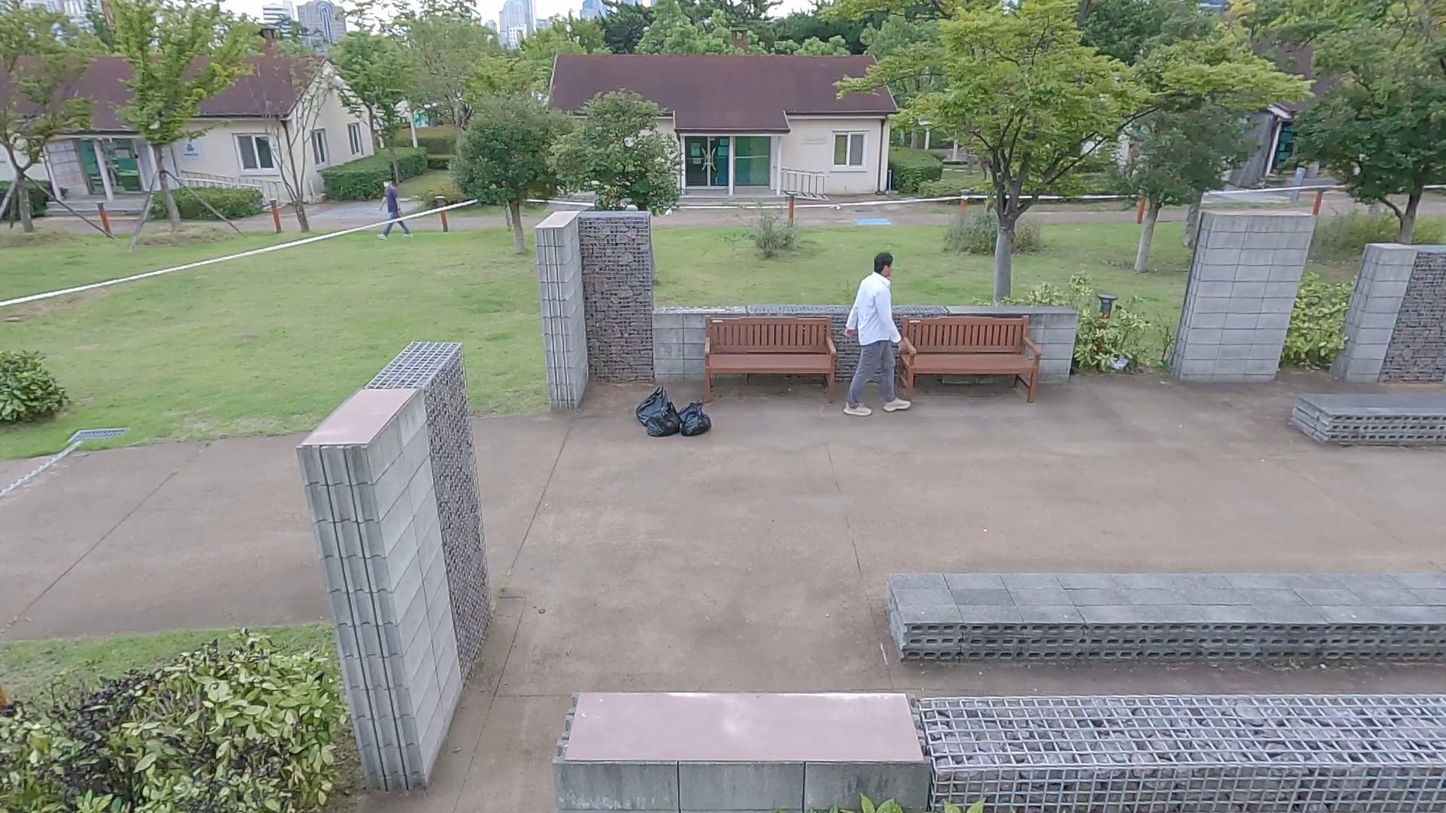person: (842, 250, 915, 423), (375, 177, 412, 240)
trash: (644, 398, 684, 439), (637, 387, 672, 427), (681, 399, 714, 436), (679, 408, 714, 437)
